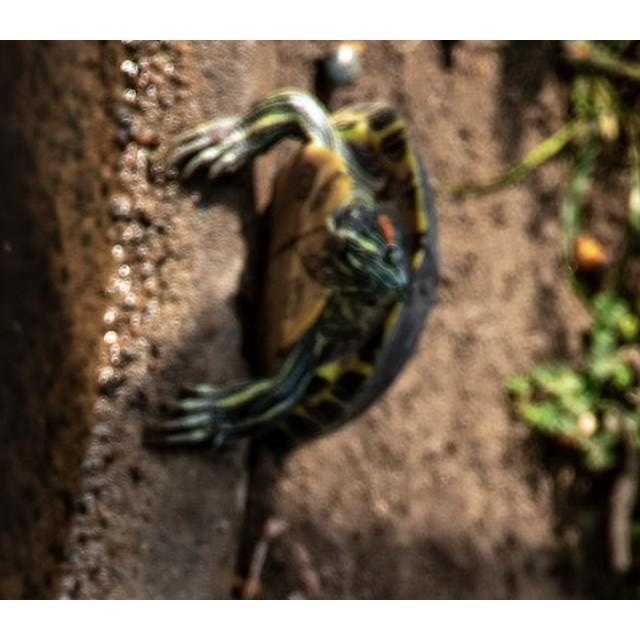turtle: (143, 89, 440, 462)
